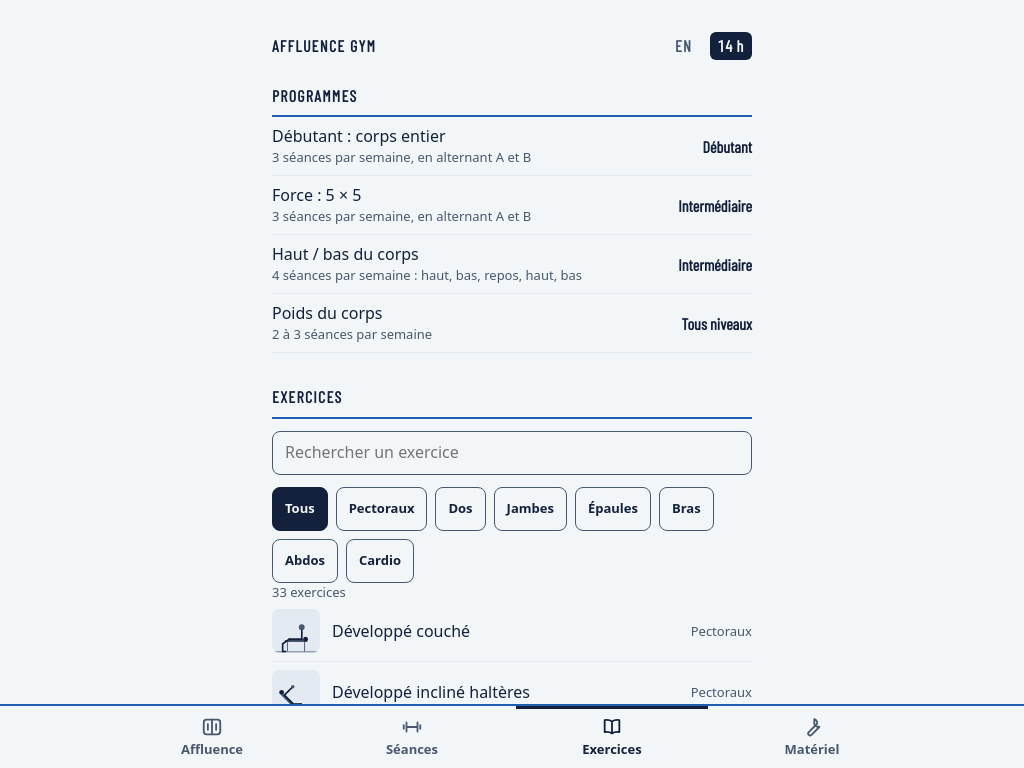
Test: bibliothèque › liste les programmes puis les exercices, filtrables par groupe et par recherche
Expected: the link "Débutant : corps entier" is shown, [272,117,752,176]
Click the button "Dos" at (461, 508), box [436,486,486,530]
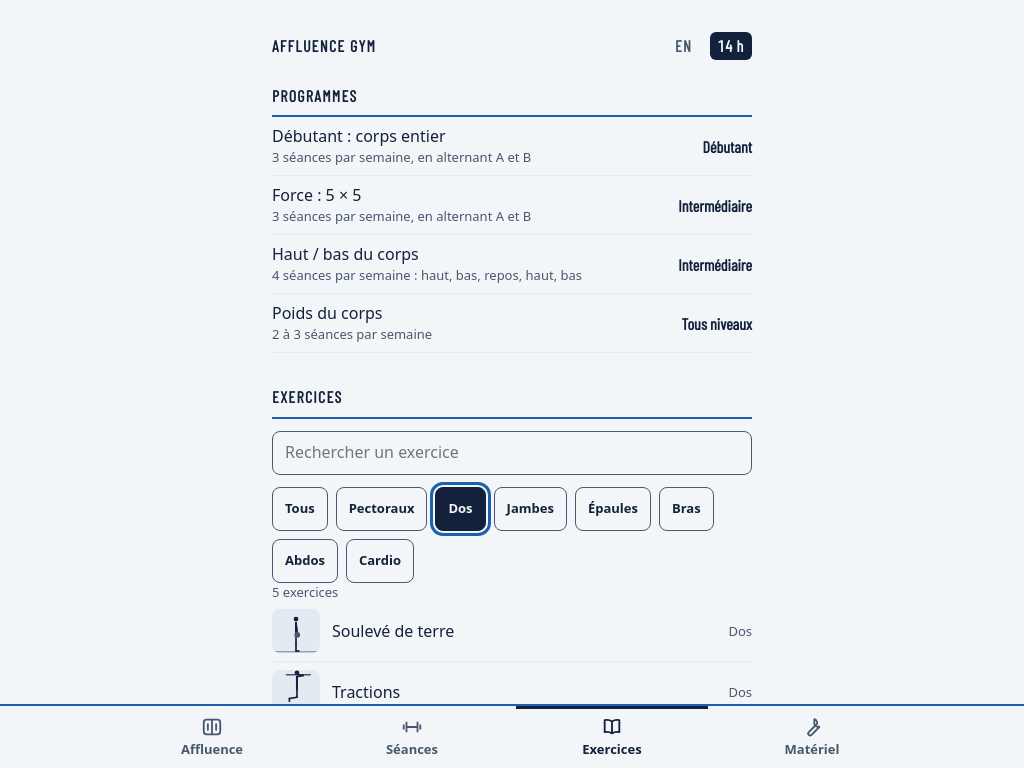
Expected: the text "5 exercices" is shown, [272,582,338,600]
Click the button "Tous" at (300, 508), box [272,486,328,530]
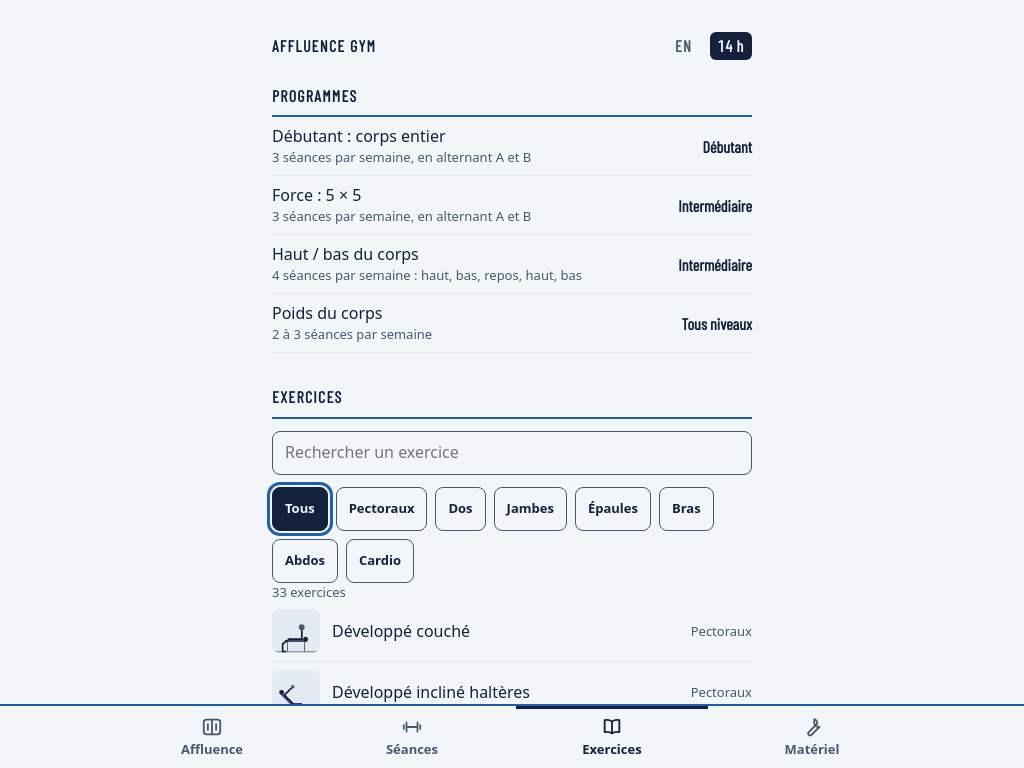
Type "curl" into the search field at (512, 452), box [272,430,752,474]
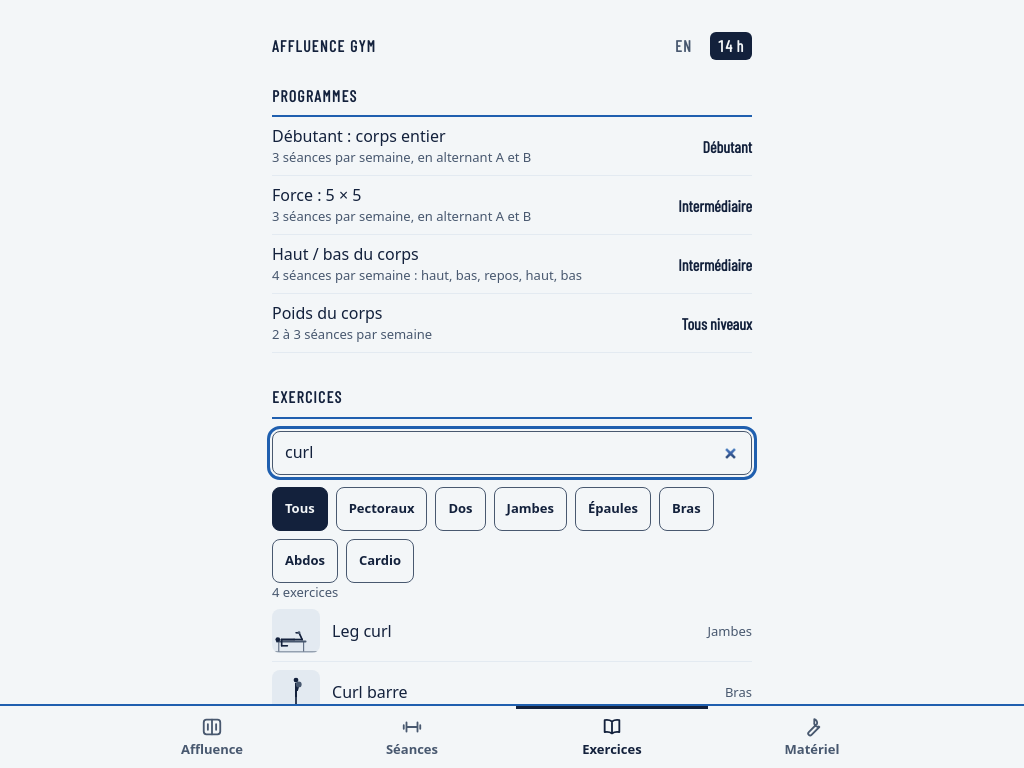
Expected: the text "4 exercices" is shown, [272,582,338,600]
